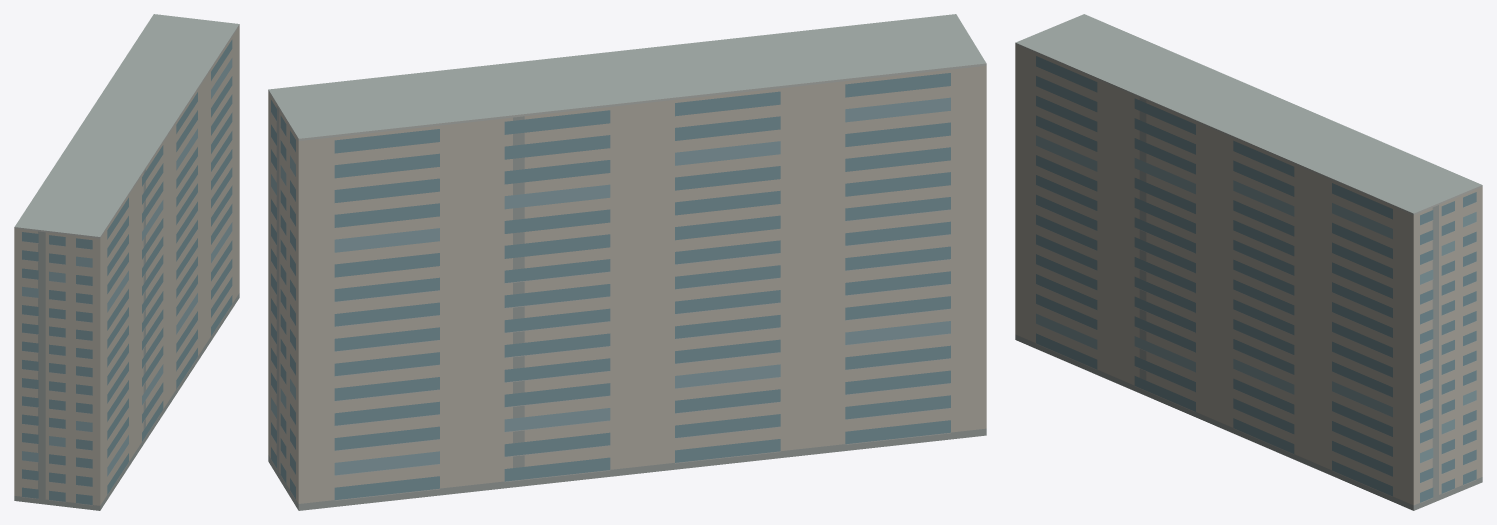
Rendered from residential-a5562c9b-dcf4-49e6-af52-13e22e3a26cb.glb.
The picture shows the model from 3 angles, left to right: view 1: azimuth 30°, elevation 25°; view 2: azimuth 150°, elevation 25°; view 3: azimuth 270°, elevation 25°; orthographic projection. The views are drawn at different scales.
Parts seen in each view (by area): view 1: residential-a5562c9b-dcf4-49e6-af52-13e22e3a26cb.tmp; view 2: residential-a5562c9b-dcf4-49e6-af52-13e22e3a26cb.tmp; view 3: residential-a5562c9b-dcf4-49e6-af52-13e22e3a26cb.tmp.
Boxes of the visible parts, x1,y1,x2,y2 form: residential-a5562c9b-dcf4-49e6-af52-13e22e3a26cb.tmp: (14,14,239,510); residential-a5562c9b-dcf4-49e6-af52-13e22e3a26cb.tmp: (268,14,986,510); residential-a5562c9b-dcf4-49e6-af52-13e22e3a26cb.tmp: (1015,14,1482,510).
Bounding box in the file's own units: 59.04 × 41 × 58.38.
